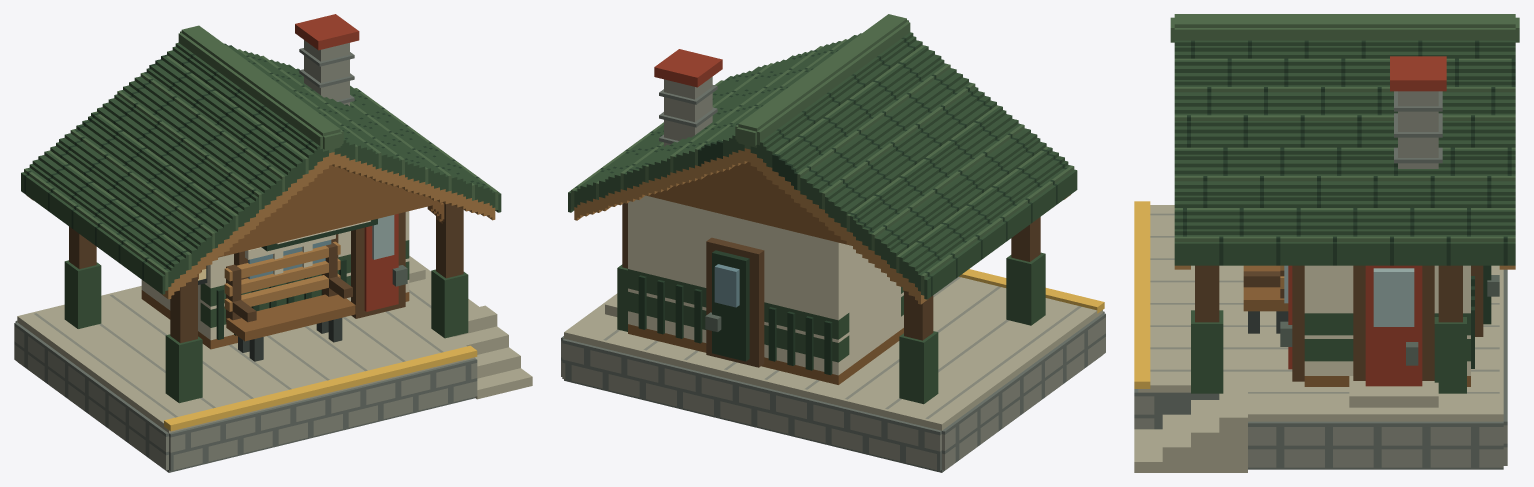
Rendered from station.glb.
3 views of the same model, side by side, from view 1: azimuth 30°, elevation 25°; view 2: azimuth 150°, elevation 25°; view 3: azimuth 270°, elevation 25° (orthographic). The views are drawn at different scales.
Visible parts, largest first — view 1: station; view 2: station; view 3: station.
Part boxes in pixels (x1,y1,x2,y2): station: [14, 14, 532, 472]; station: [561, 14, 1105, 472]; station: [1134, 14, 1519, 472].
Size of the model in its own units: 9.38 by 7.2 by 7.12.
